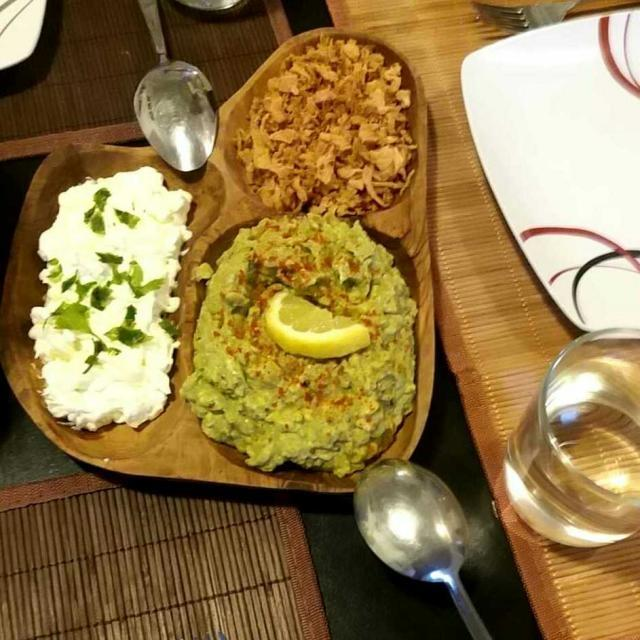cheese: (37, 166, 189, 432)
guacamole: (182, 221, 420, 474)
mixed-vegetables: (237, 45, 418, 216)
